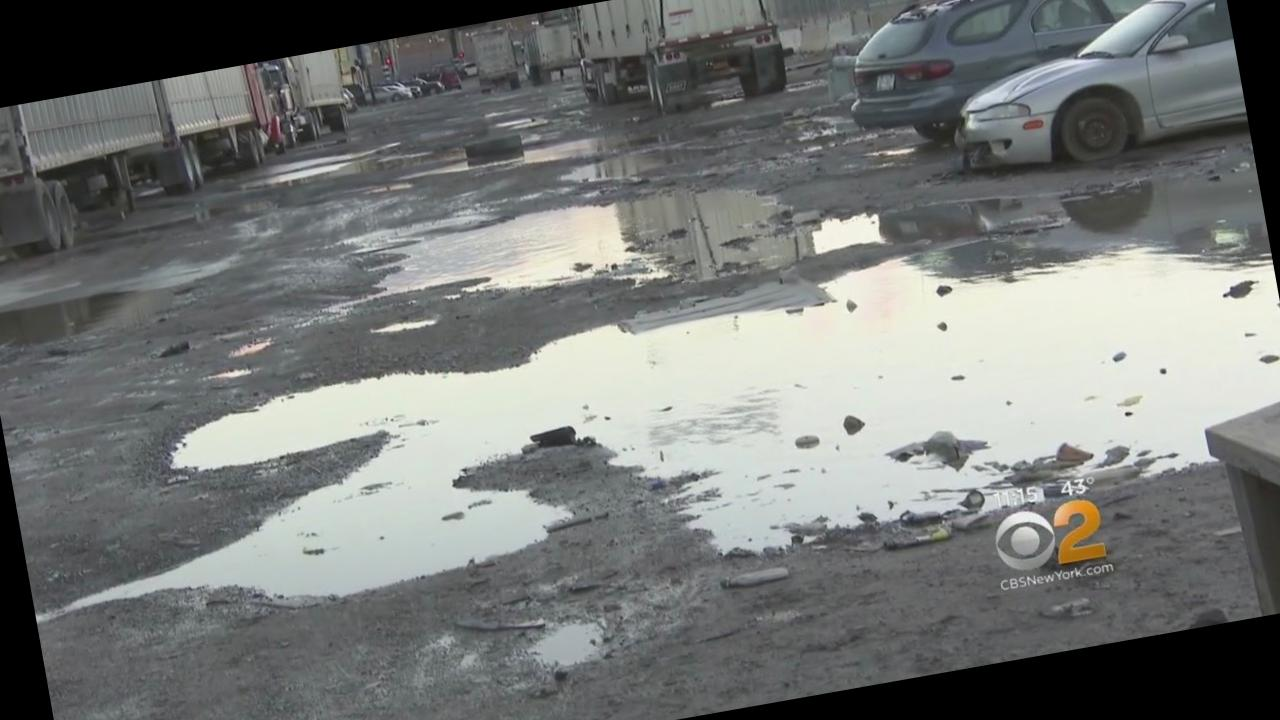pothole: (71, 162, 1280, 720), (310, 98, 1042, 352), (206, 65, 846, 246), (0, 241, 234, 405)
